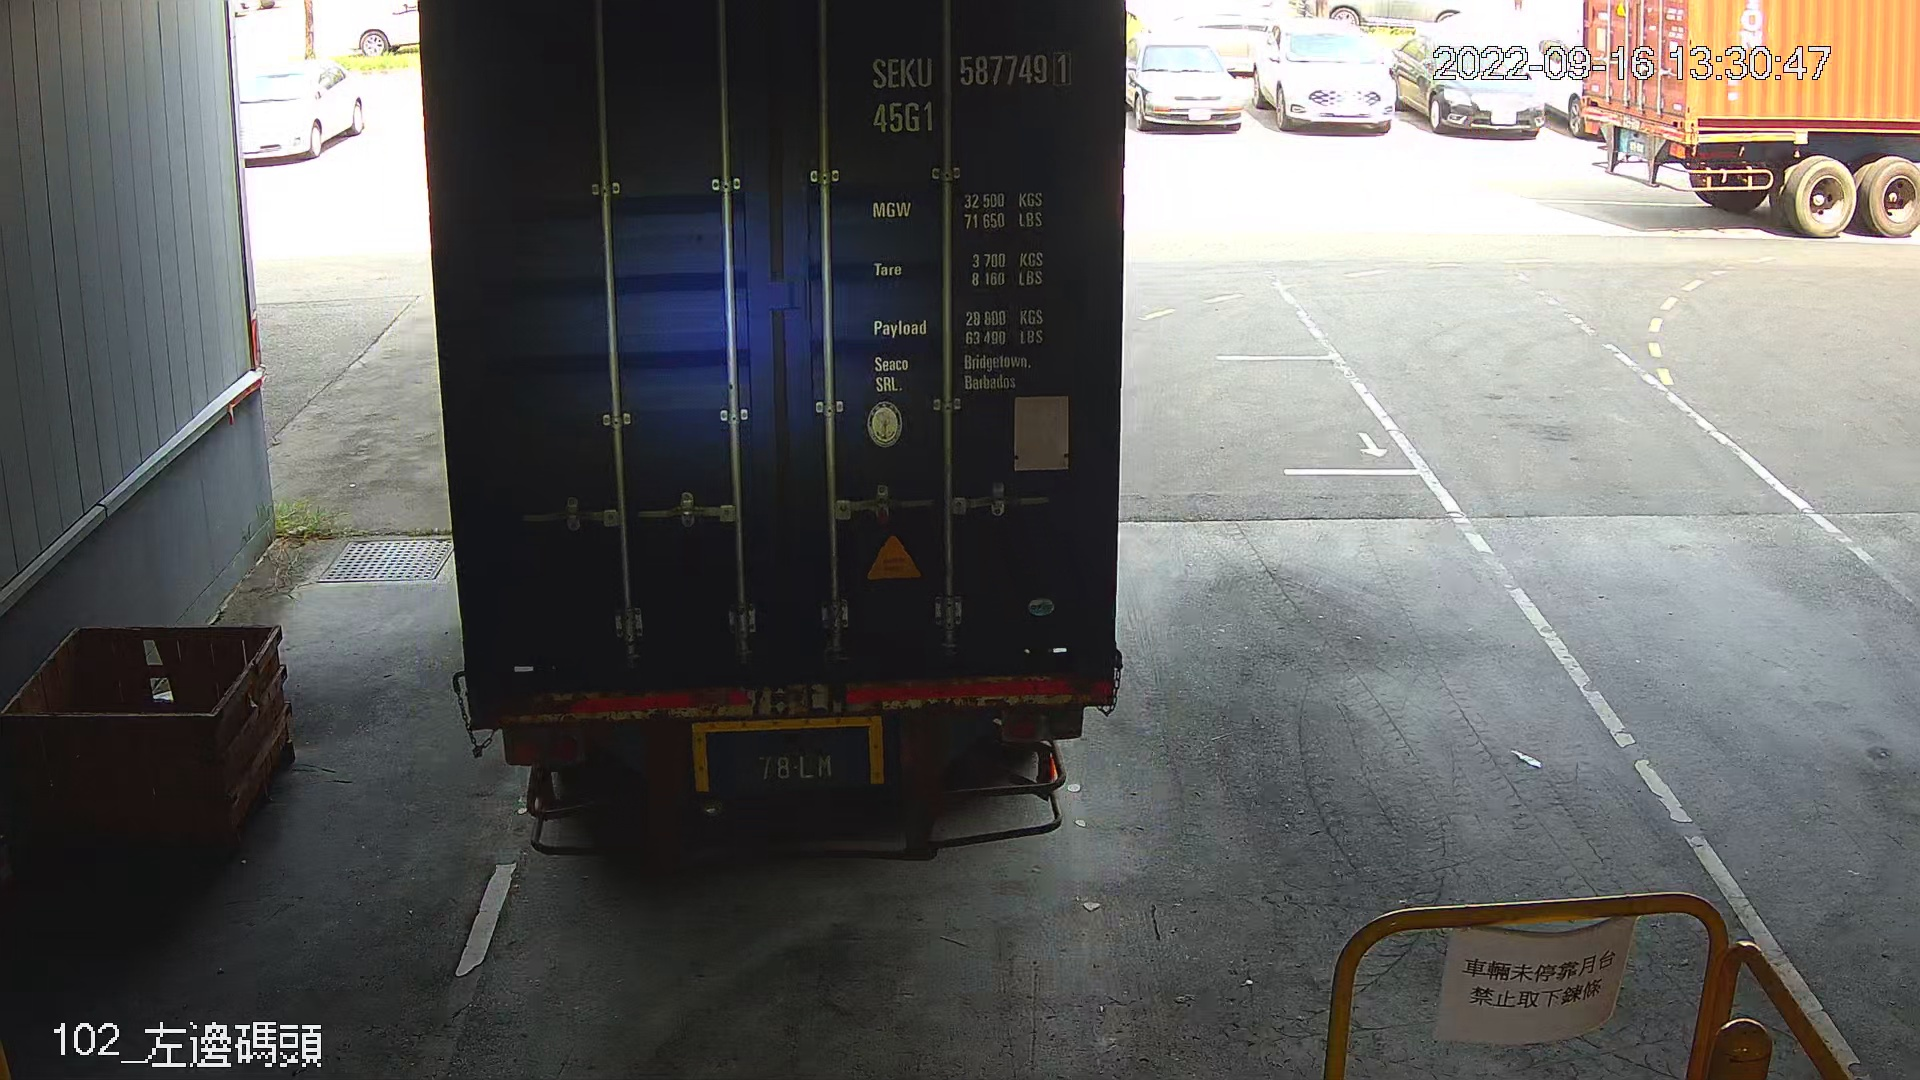container: (860, 45, 1083, 146)
